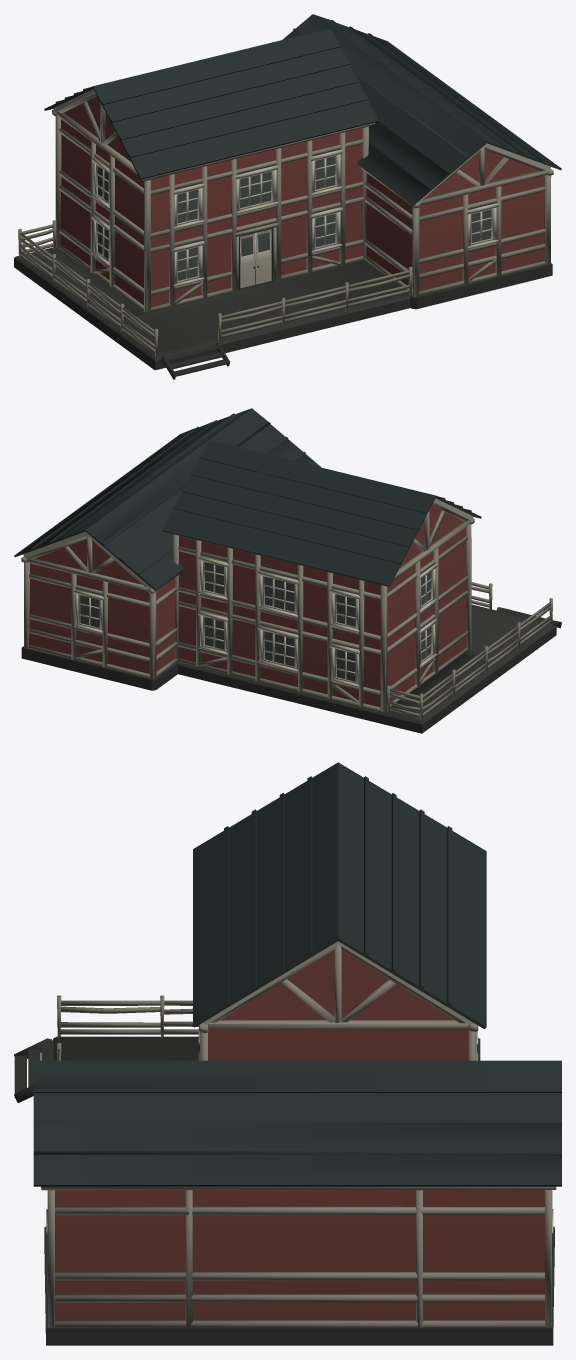
Rendered from farm_house_4.glb.
The picture shows the model from 3 angles, top to bottom: view 1: azimuth 30°, elevation 25°; view 2: azimuth 150°, elevation 25°; view 3: azimuth 270°, elevation 25°; orthographic projection. The views are drawn at different scales.
Parts seen in each view (by area): view 1: farm_house_4; view 2: farm_house_4; view 3: farm_house_4.
Boxes of the visible parts, box(x1,y1,x2,y2) form: farm_house_4: box(14, 14, 561, 379); farm_house_4: box(14, 408, 561, 733); farm_house_4: box(14, 762, 561, 1345).
Bounding box in the file's own units: 18.46 × 9.25 × 14.42.
Materials: 1 (1 with a texture image).
